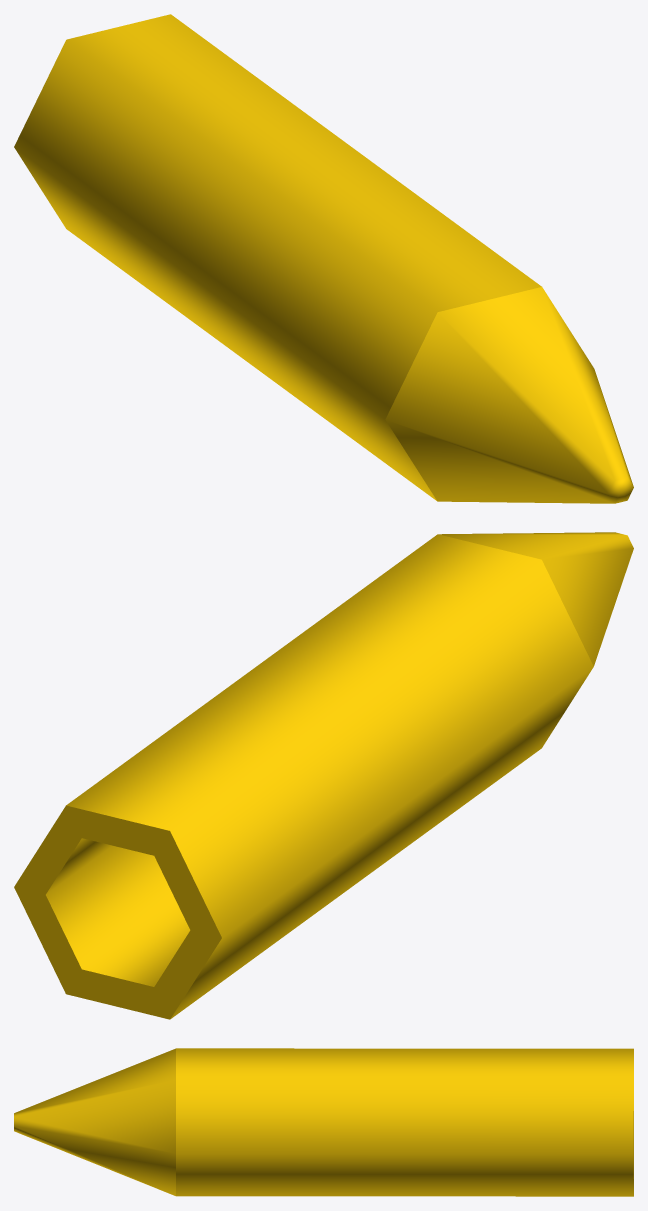
The model's file is Bullet.fbx.
The picture shows the model from 3 angles, top to bottom: view 1: azimuth 30°, elevation 25°; view 2: azimuth 150°, elevation 25°; view 3: azimuth 270°, elevation 25°; orthographic projection. The views are drawn at different scales.
Parts seen in each view (by area): view 1: Bullet; view 2: Bullet; view 3: Bullet.
Part boxes in pixels (bbox=[...]): Bullet: bbox=[14, 14, 633, 503]; Bullet: bbox=[14, 532, 633, 1019]; Bullet: bbox=[14, 1048, 633, 1196].
Size of the model in its own units: 0.1574 by 0.1358 by 0.6548.
1 material, 1 textured.
